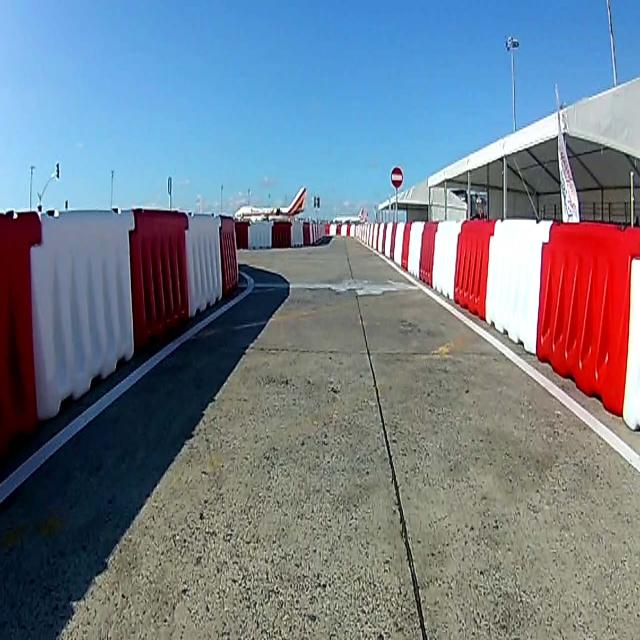girisyok: (391, 165, 404, 188)
